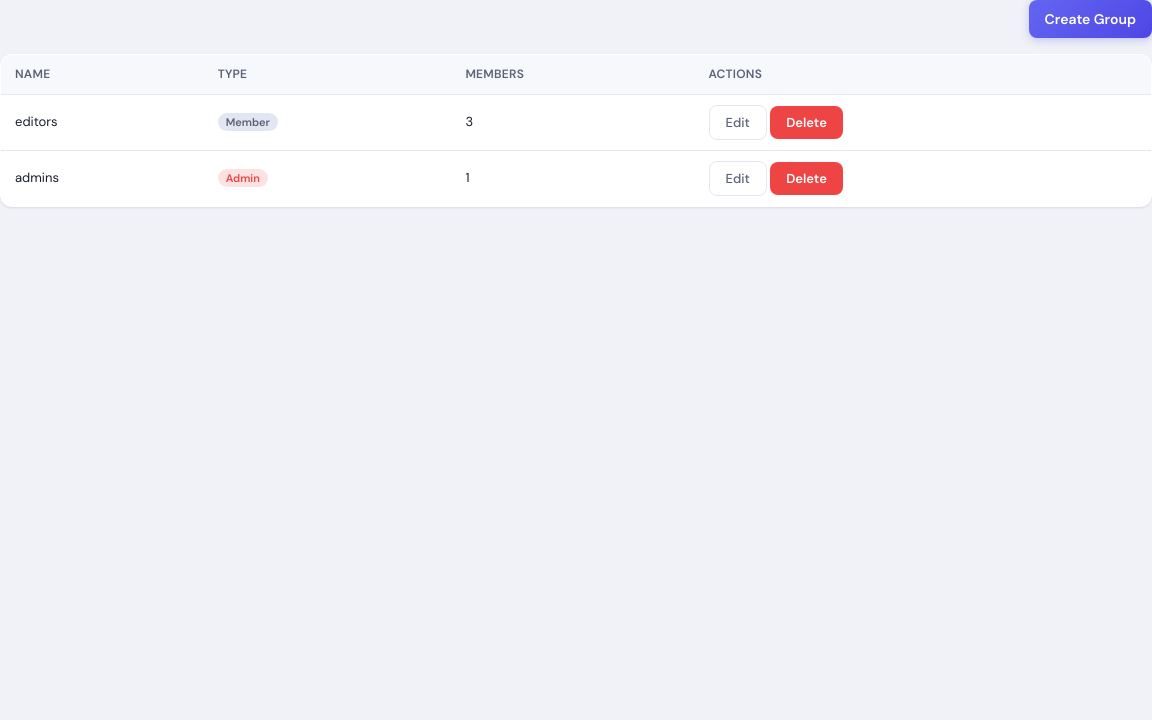
Test case: GroupsTab › opens GroupFormModal when Create button is clicked
The width and height of the screenshot is (1152, 720).
Expected: the text "editors" is shown, [0, 95, 204, 151]
Step 1. Click the button "Create Group" → (1090, 19), box [1028, 0, 1151, 38]
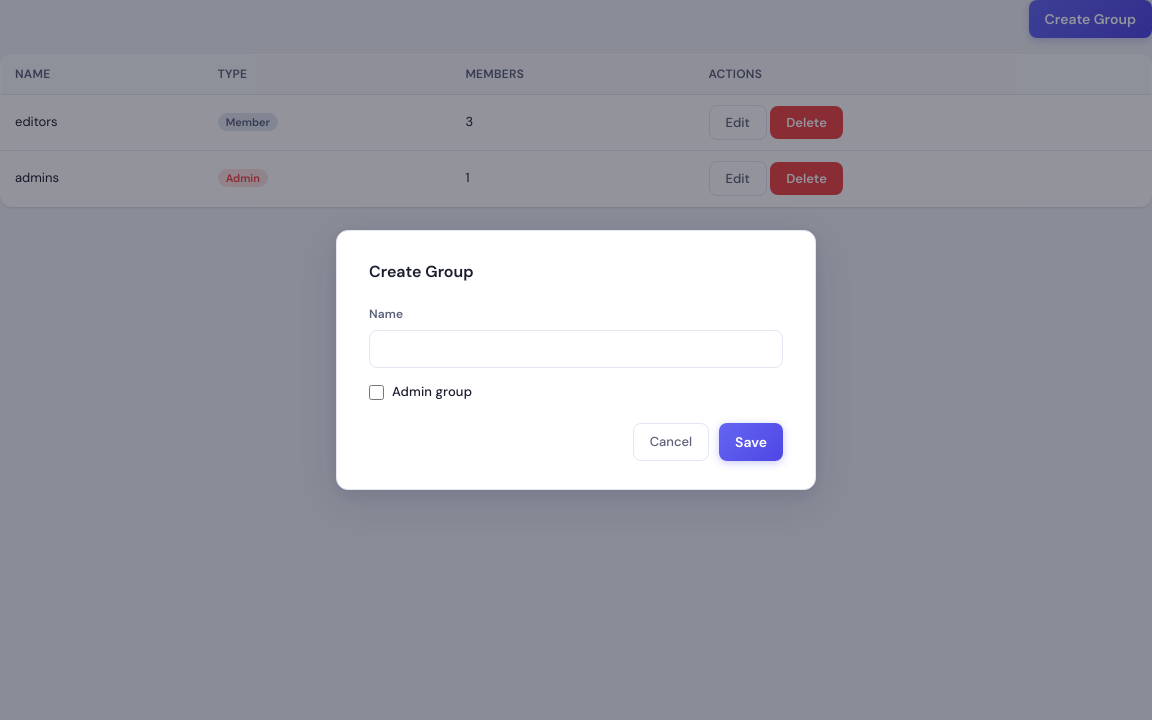
Expected: the element with class "upload-modal" is shown, [336, 230, 816, 490]
